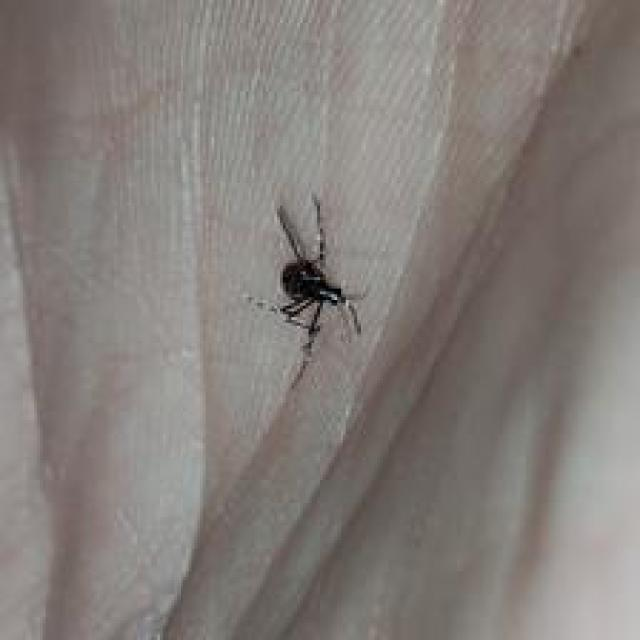Aedes albopictus: (244, 192, 370, 388)
